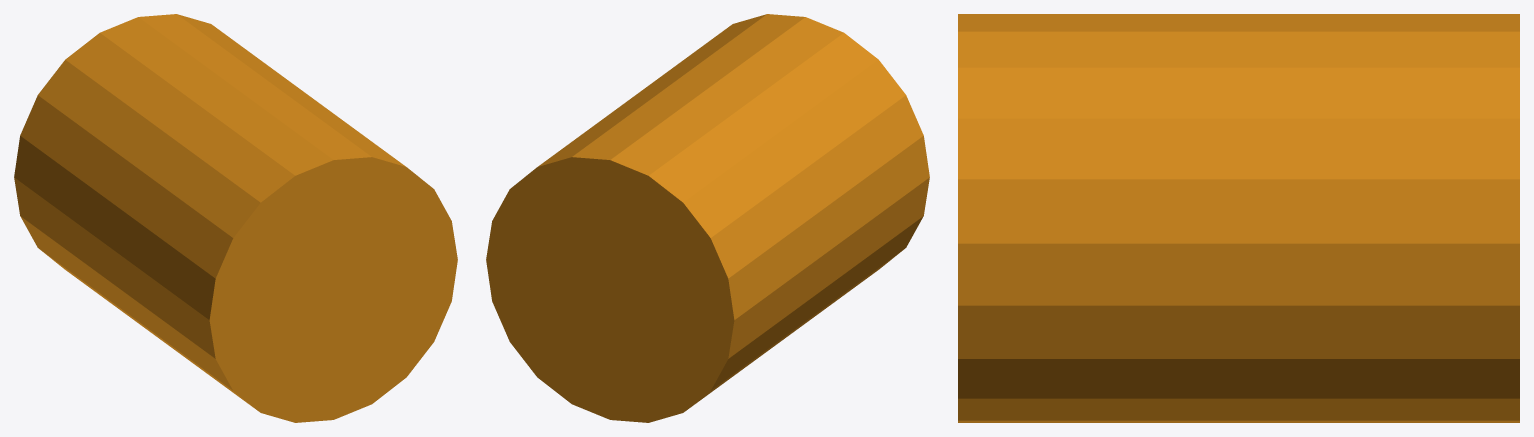
The model's file is MOTOR_M01_Frame.obj.
The picture shows the model from 3 angles, left to right: view 1: azimuth 30°, elevation 25°; view 2: azimuth 150°, elevation 25°; view 3: azimuth 270°, elevation 25°; orthographic projection. The views are drawn at different scales.
Parts seen in each view (by area): view 1: MOTOR_M01_Frame; view 2: MOTOR_M01_Frame; view 3: MOTOR_M01_Frame.
Part boxes in pixels (<box>): MOTOR_M01_Frame: <box>14,14,457,422</box>; MOTOR_M01_Frame: <box>486,14,929,422</box>; MOTOR_M01_Frame: <box>958,14,1519,422</box>.
Size of the model in its own units: 0.44 by 0.44 by 0.6.
